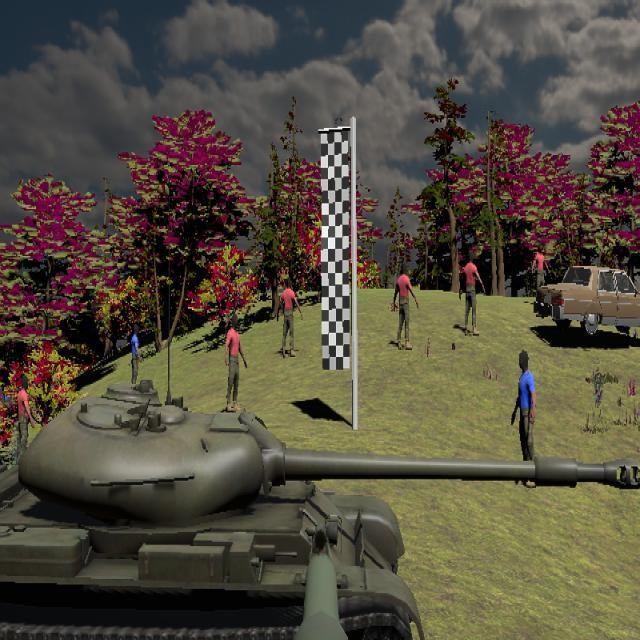Human: (511, 350, 538, 489), (459, 248, 485, 336), (225, 314, 247, 413), (393, 263, 418, 350), (531, 245, 549, 301)
Tank: (0, 386, 503, 640)
car: (533, 265, 640, 339)
